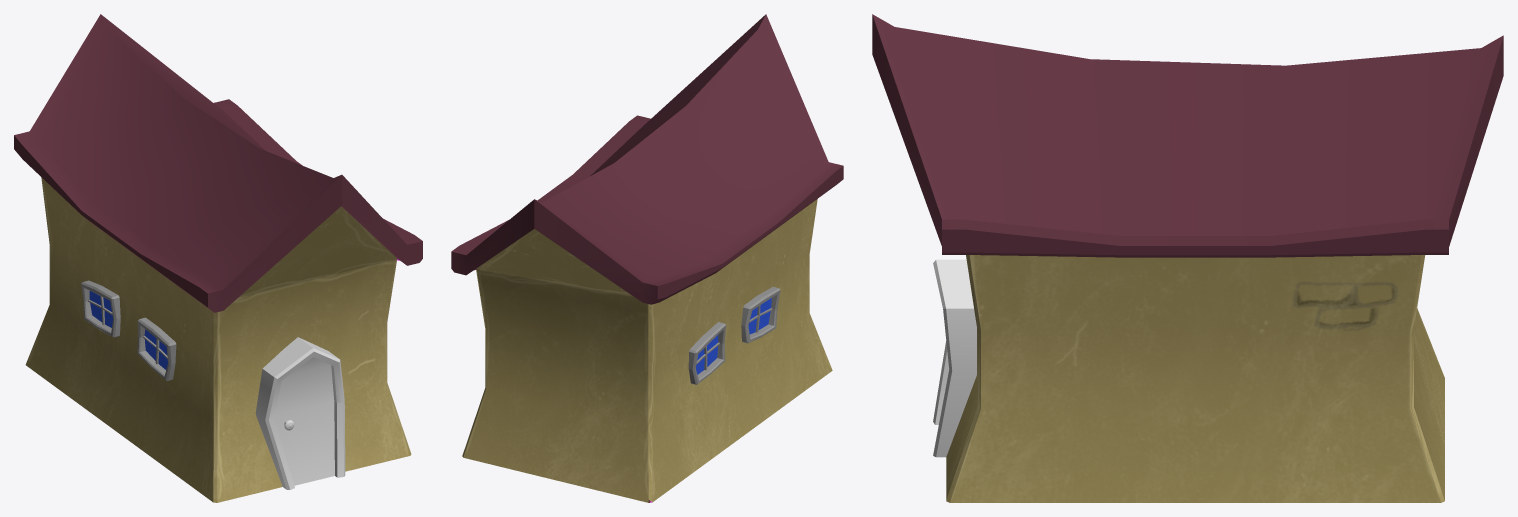
Rendered from Huis_1_test_FBX.FBX.
The picture shows the model from 3 angles, left to right: view 1: azimuth 30°, elevation 25°; view 2: azimuth 150°, elevation 25°; view 3: azimuth 270°, elevation 25°; orthographic projection. The views are drawn at different scales.
Parts seen in each view (by area): view 1: Box001, Line001, Box003, Box002; view 2: Box001, Box002, Box003; view 3: Box001, Line001.
Boxes of the visible parts, bbox=[...] form: Box001: bbox=[14, 14, 422, 502]; Line001: bbox=[255, 337, 345, 489]; Box003: bbox=[137, 317, 176, 380]; Box002: bbox=[81, 280, 120, 337]; Box001: bbox=[451, 14, 843, 502]; Box002: bbox=[688, 322, 725, 384]; Box003: bbox=[741, 287, 780, 343]; Box001: bbox=[872, 14, 1503, 502]; Line001: bbox=[933, 259, 976, 457].
Bounding box in the file's own units: 138 × 200 × 269.
Materials: 12 (1 with a texture image).
